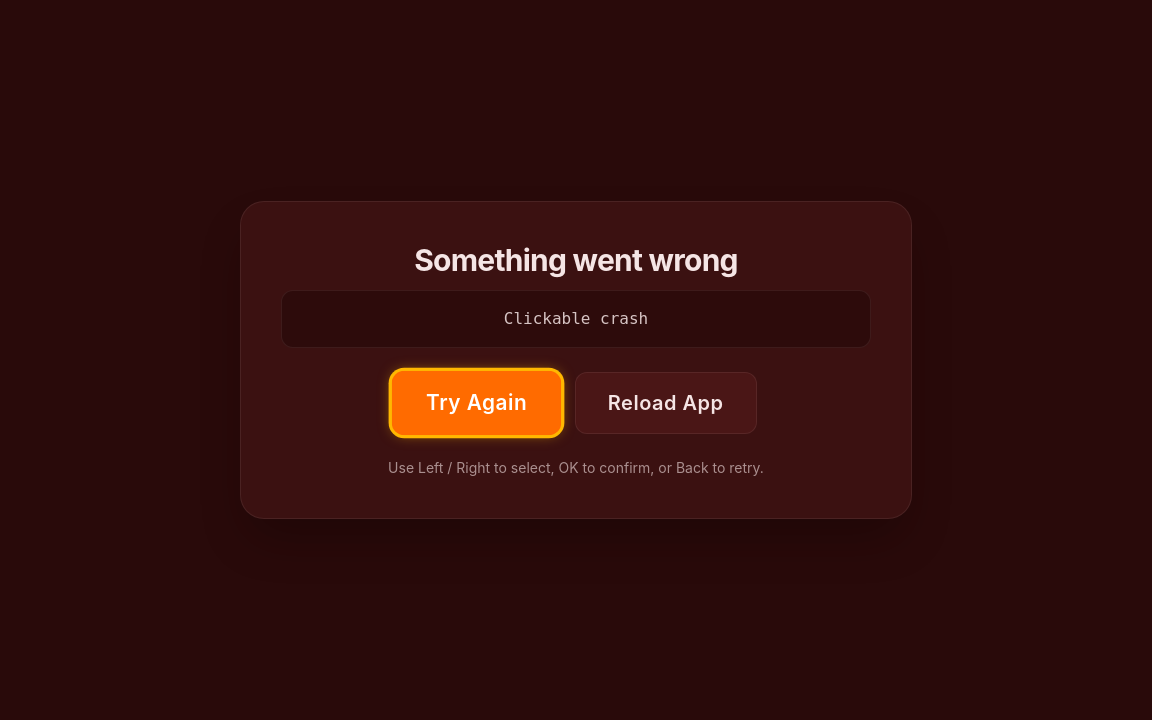
AppErrorBoundary › supports clicking Try Again and Reload App buttons directly
Later steps or results of the test are not shown.
Click the button "Reload App": (666, 403) [575, 372, 757, 434]
Click the button "Try Again": (477, 403) [392, 371, 562, 435]
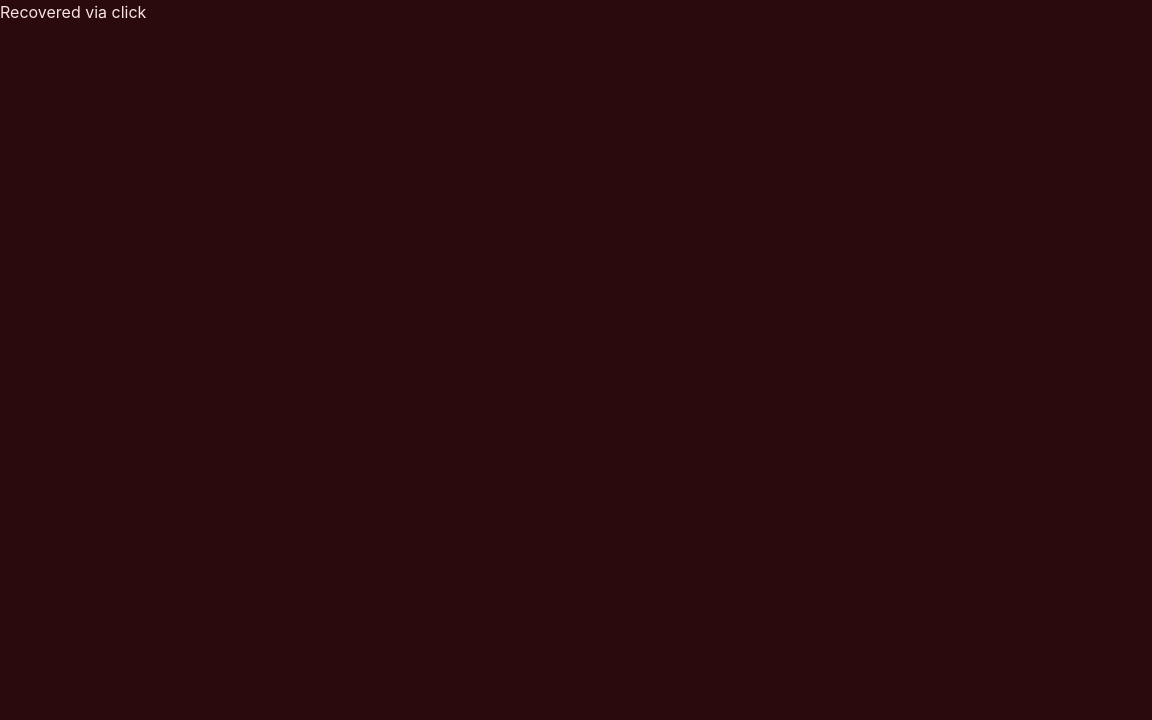
Now the dialog is gone
Now the text "Recovered via click" is shown, box [0, 2, 146, 22]
